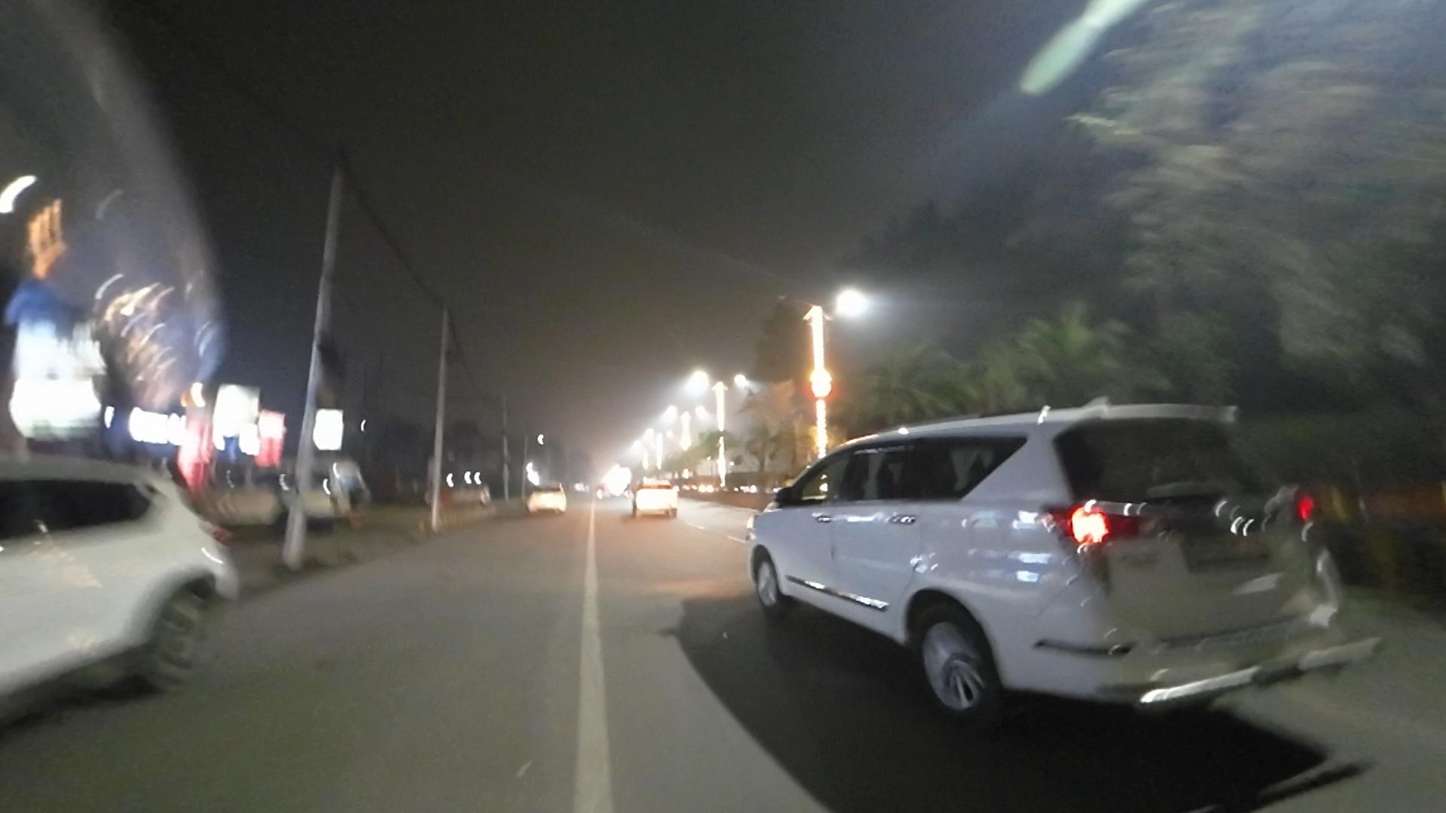streetlight: (775, 293, 811, 307)
